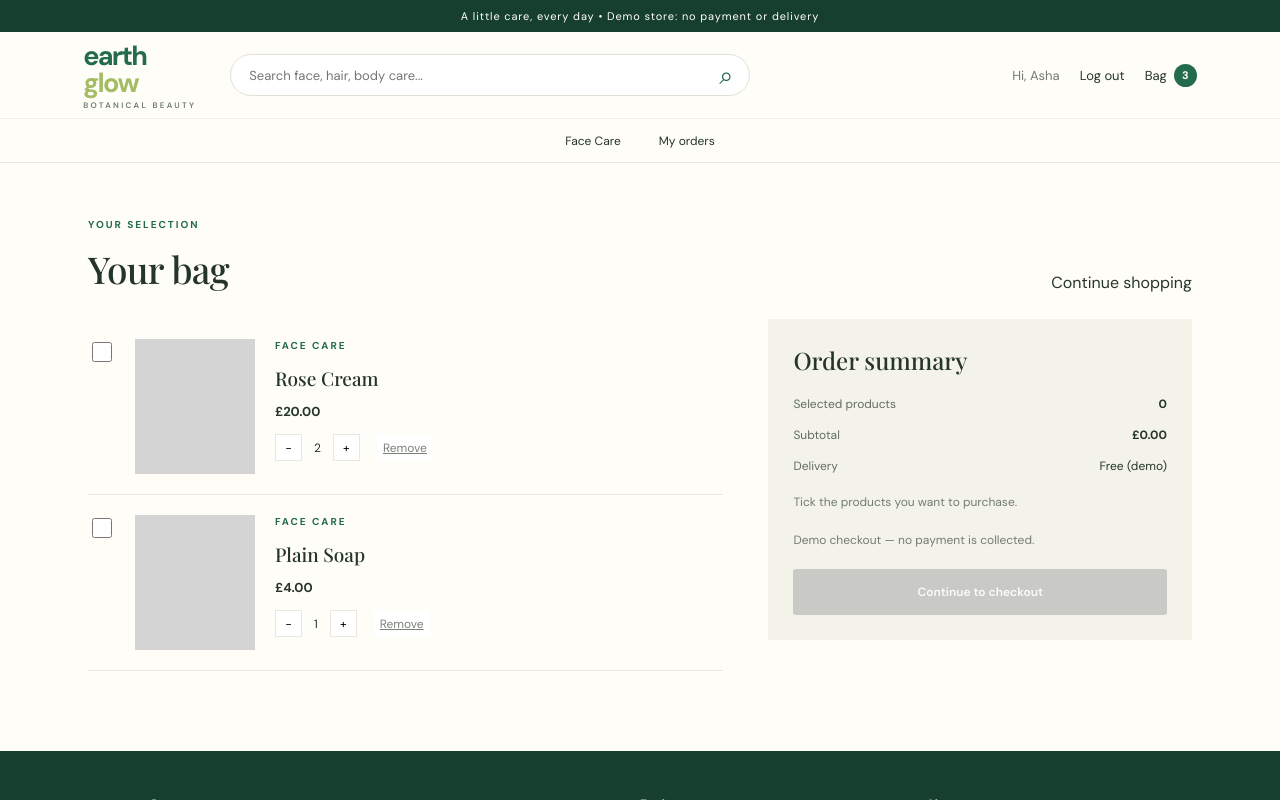
Test: bag and checkout › stays on checkout and shows the reason when an order fails
This screenshot has width=1280, height=800.
Click the checkbox named "Select Rose Cream": (102, 352) left=92, top=342, right=112, bottom=362
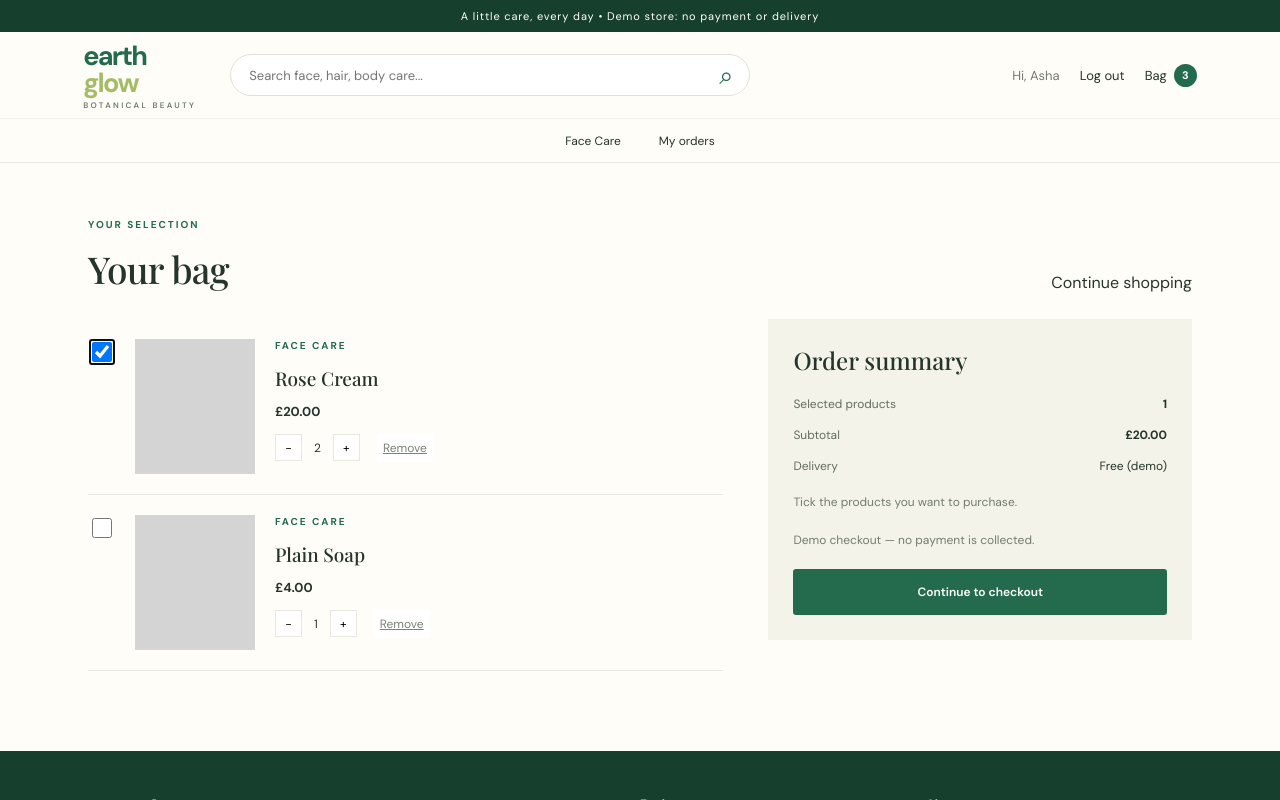
Click the button "Continue to checkout": (980, 592) left=793, top=569, right=1167, bottom=615
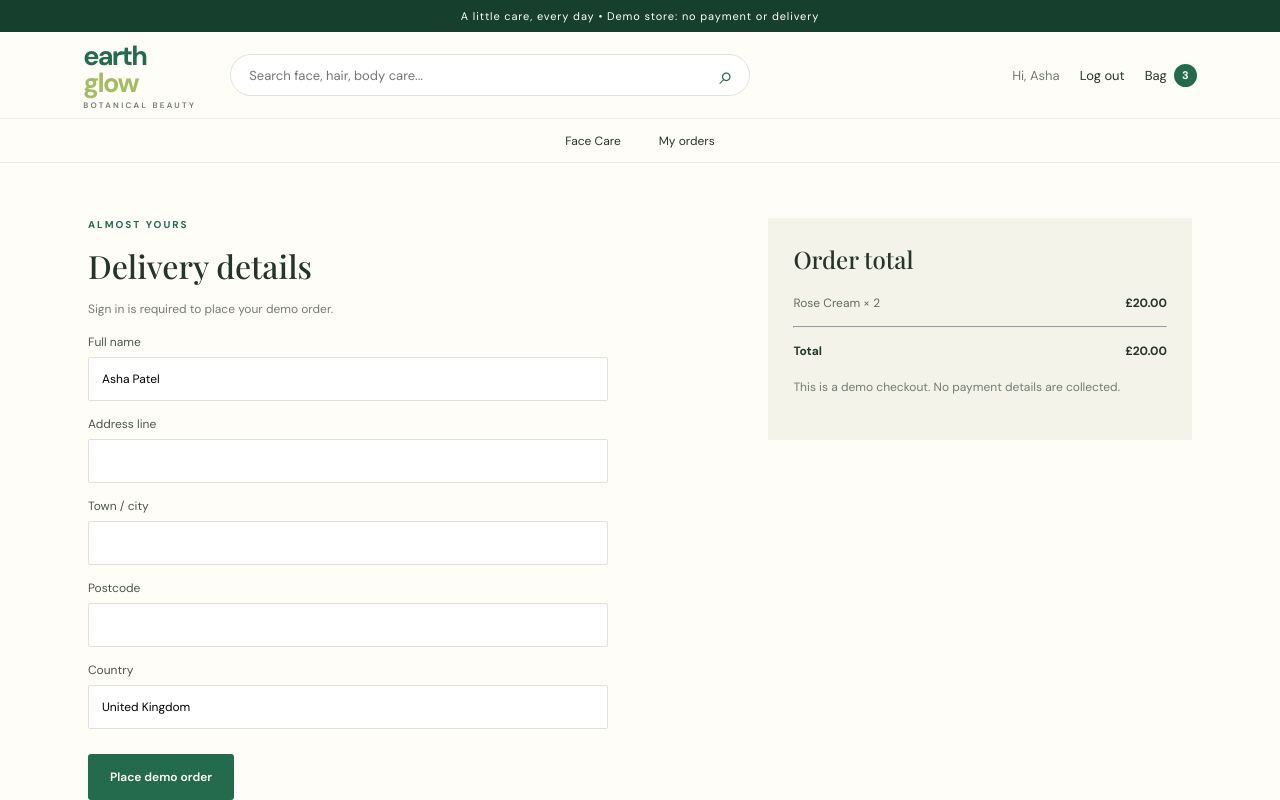
In the field labelled "Address line": (348, 461) left=88, top=439, right=608, bottom=483, type "1 Test Street"
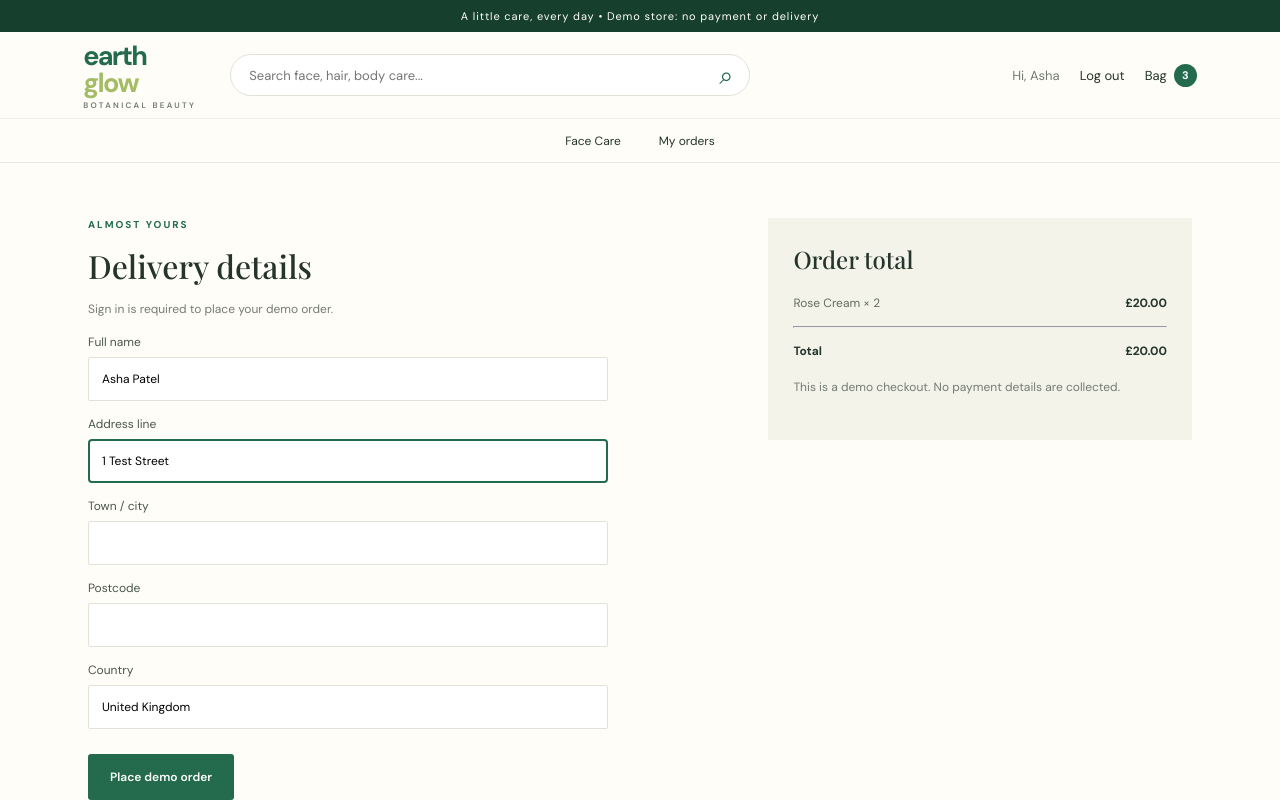
In the field labelled "Town / city": (348, 543) left=88, top=521, right=608, bottom=565, type "London"
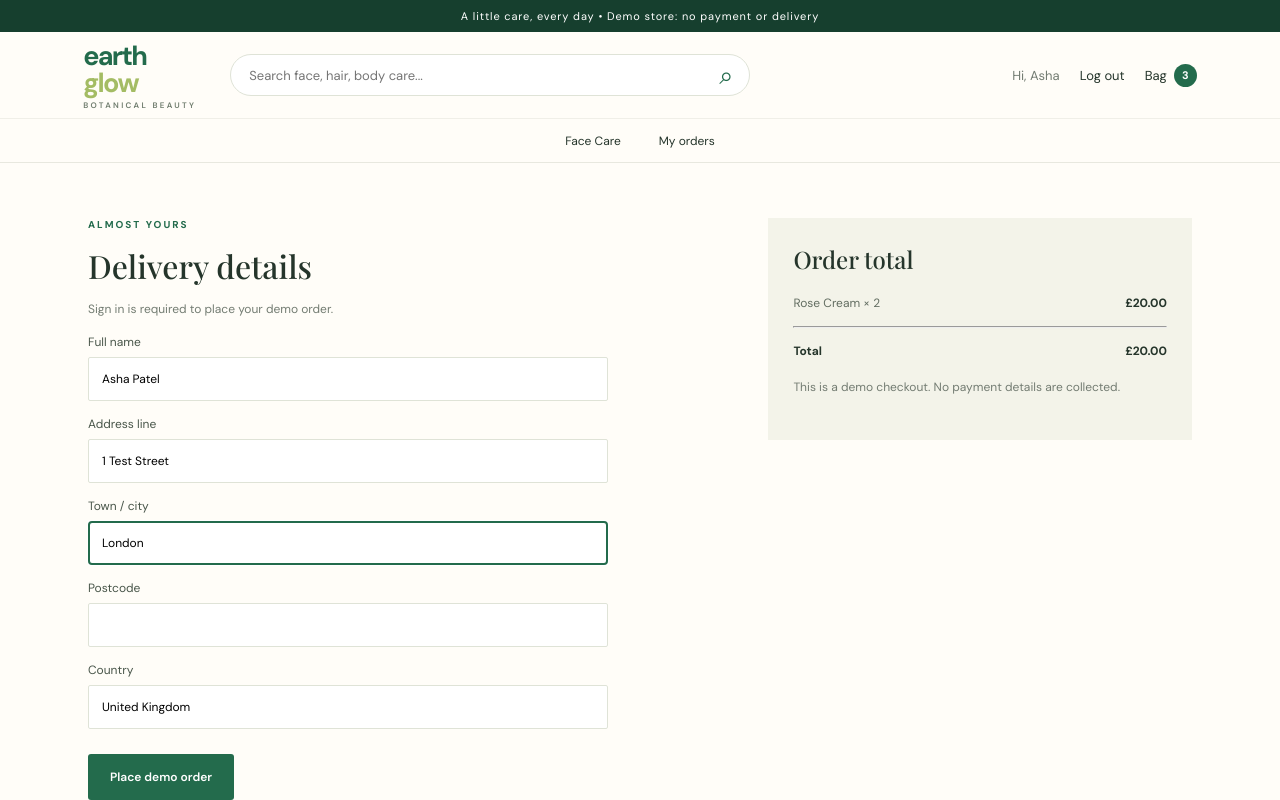
In the field labelled "Postcode": (348, 625) left=88, top=603, right=608, bottom=647, type "E1 1AA"
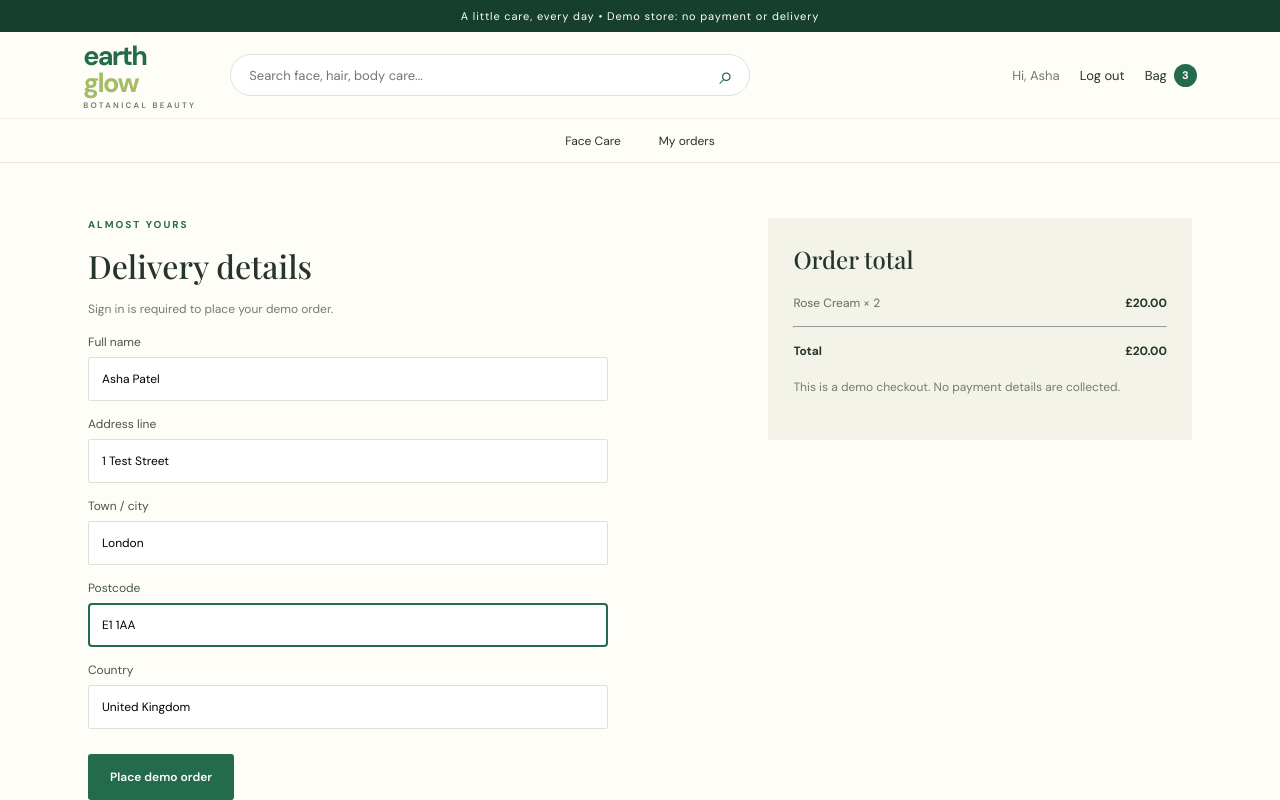
Click the button "Place demo order": (161, 777) left=88, top=754, right=234, bottom=799
(page scrolled)
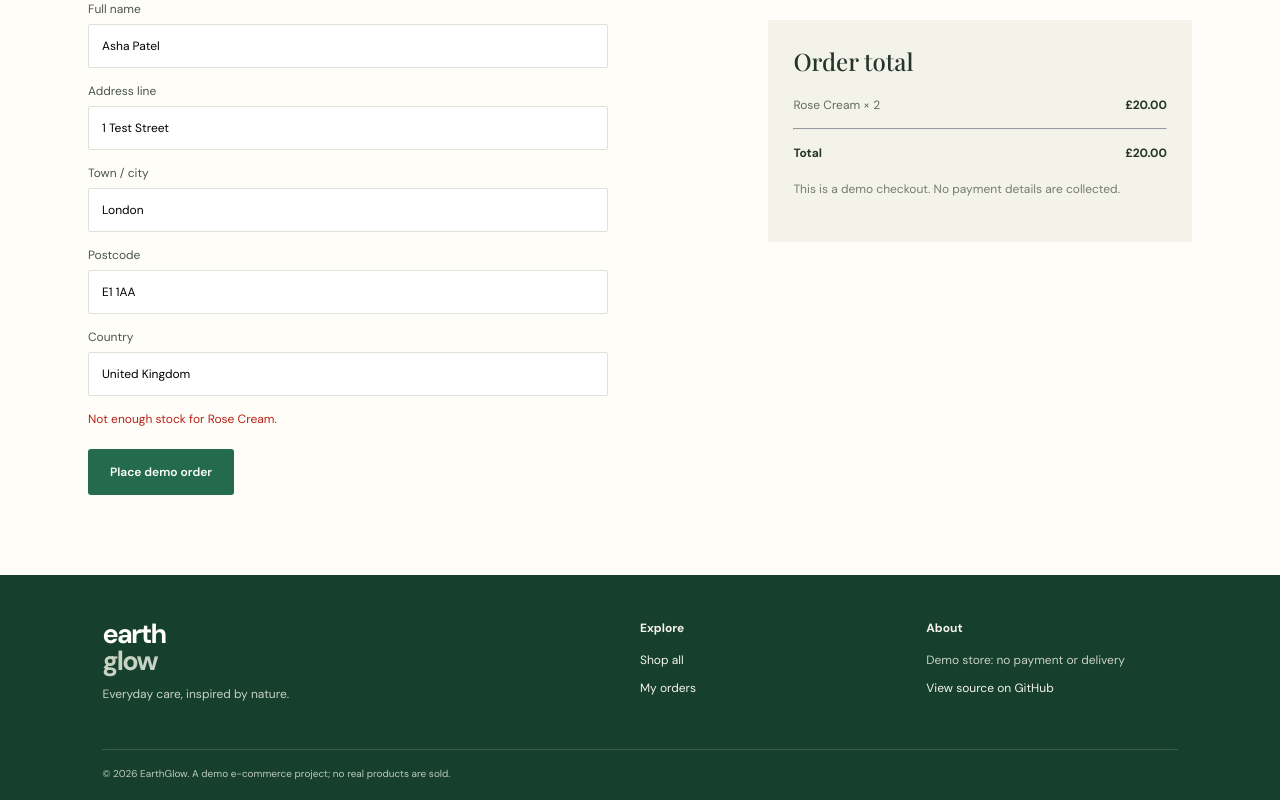
Expected: the button "Place demo order" is enabled, left=88, top=449, right=234, bottom=495
Expected: the text "Not enough stock for Rose Cream." is shown, left=88, top=411, right=277, bottom=427
